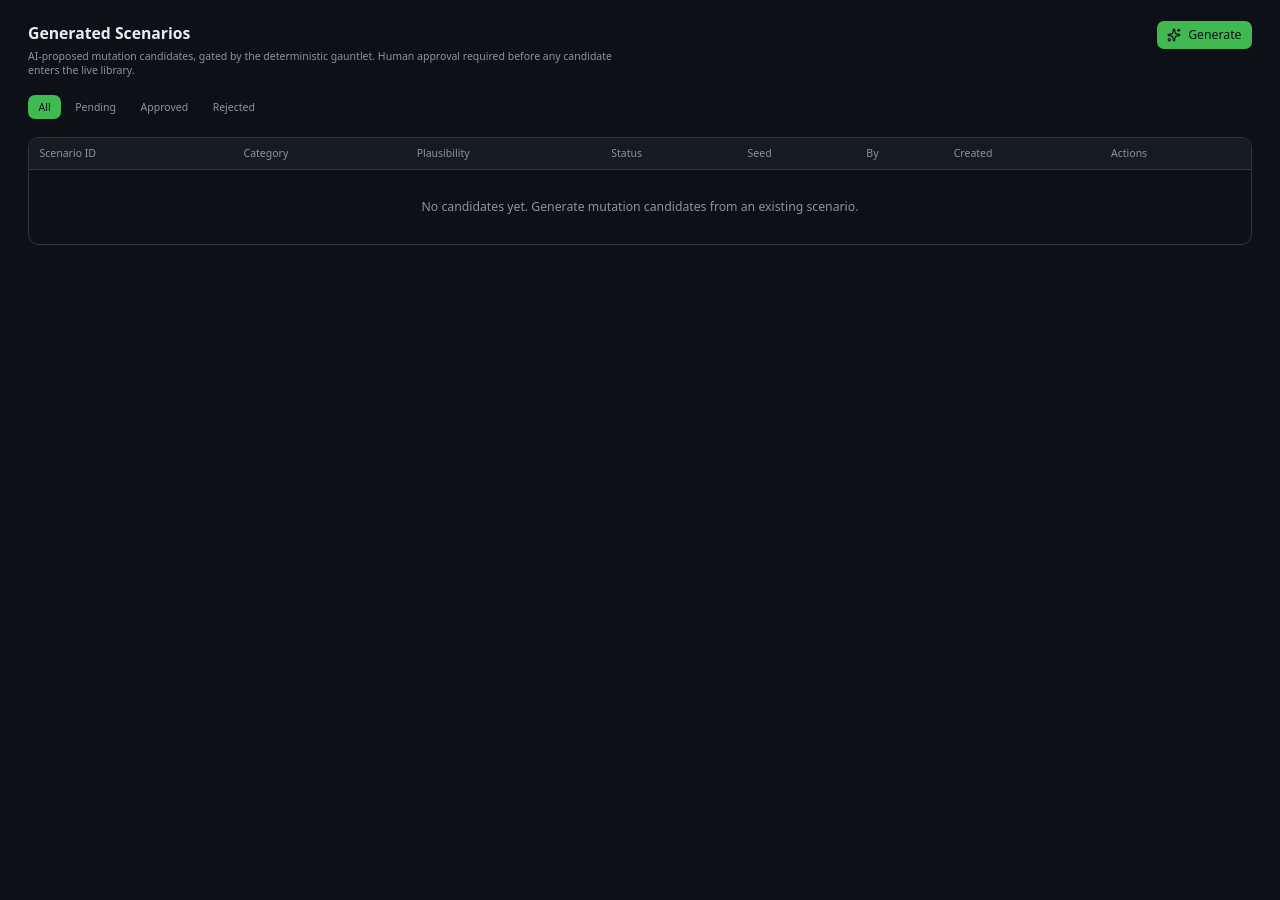
Test: Candidates page › opens the generate dialog
Expected: the text "No candidates yet" is shown, x1=422 y1=198 x2=858 y2=215
Click the button "Generate": click(1204, 35) x1=1157 y1=21 x2=1252 y2=49
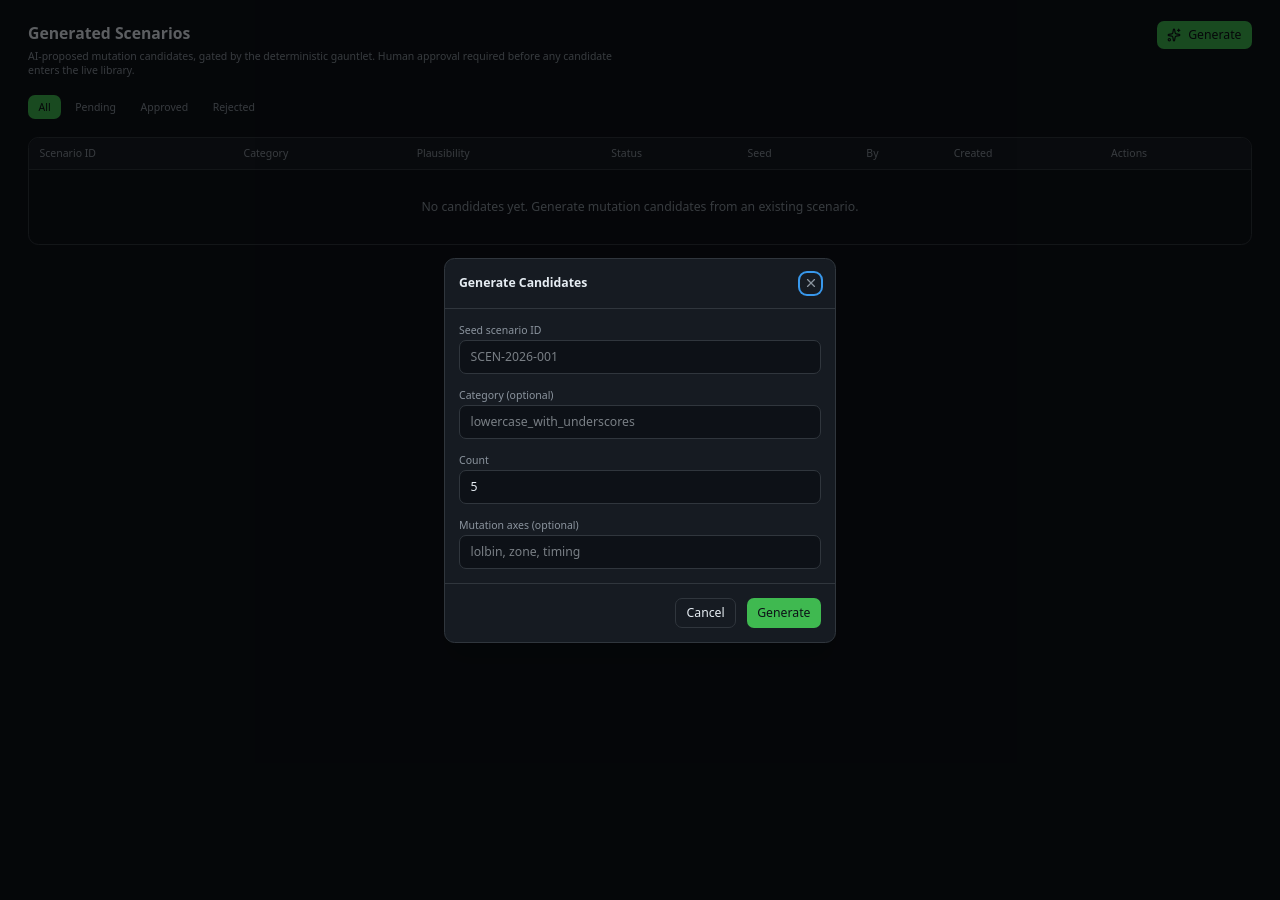
Result: the dialog is shown at x1=444 y1=258 x2=836 y2=642
Result: the heading "Generate Candidates" is shown at x1=459 y1=274 x2=587 y2=292
